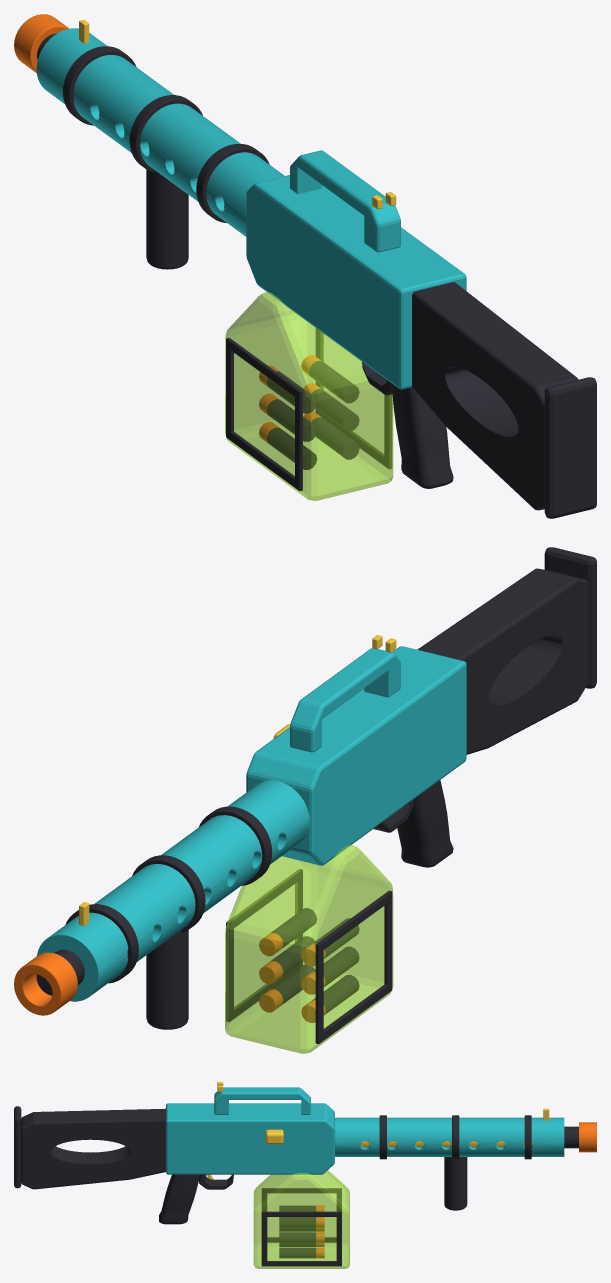
The picture shows the model from 3 angles, top to bottom: view 1: azimuth 30°, elevation 25°; view 2: azimuth 150°, elevation 25°; view 3: azimuth 270°, elevation 25°; orthographic projection. The views are drawn at different scales.
Parts seen in each view (by area): view 1: body, mag; view 2: body, mag; view 3: body, mag, bolt.
Boxes of the visible parts, x1,y1,x2,y2 form: body: (14, 14, 596, 518); mag: (225, 292, 393, 500); body: (14, 547, 596, 1029); mag: (225, 845, 393, 1053); body: (14, 1082, 596, 1224); mag: (253, 1170, 349, 1268); bolt: (265, 1129, 283, 1144).
Size of the model in its own units: 0.1045 by 0.32 by 0.966.
